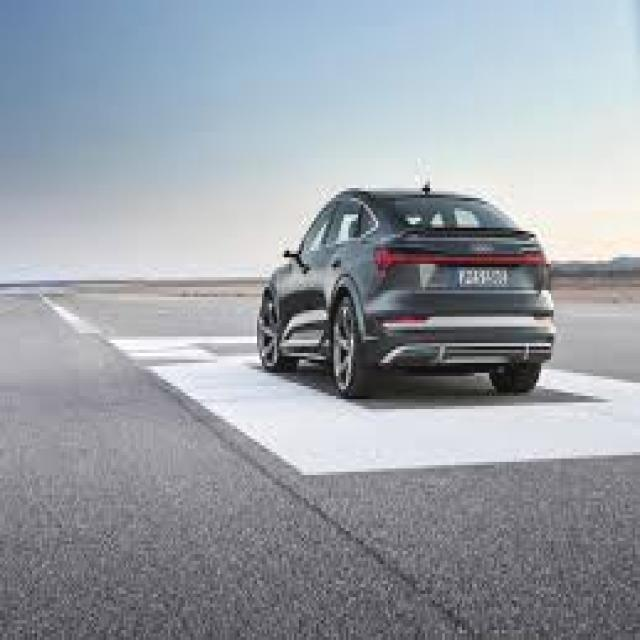SUV: (255, 182, 556, 396)
